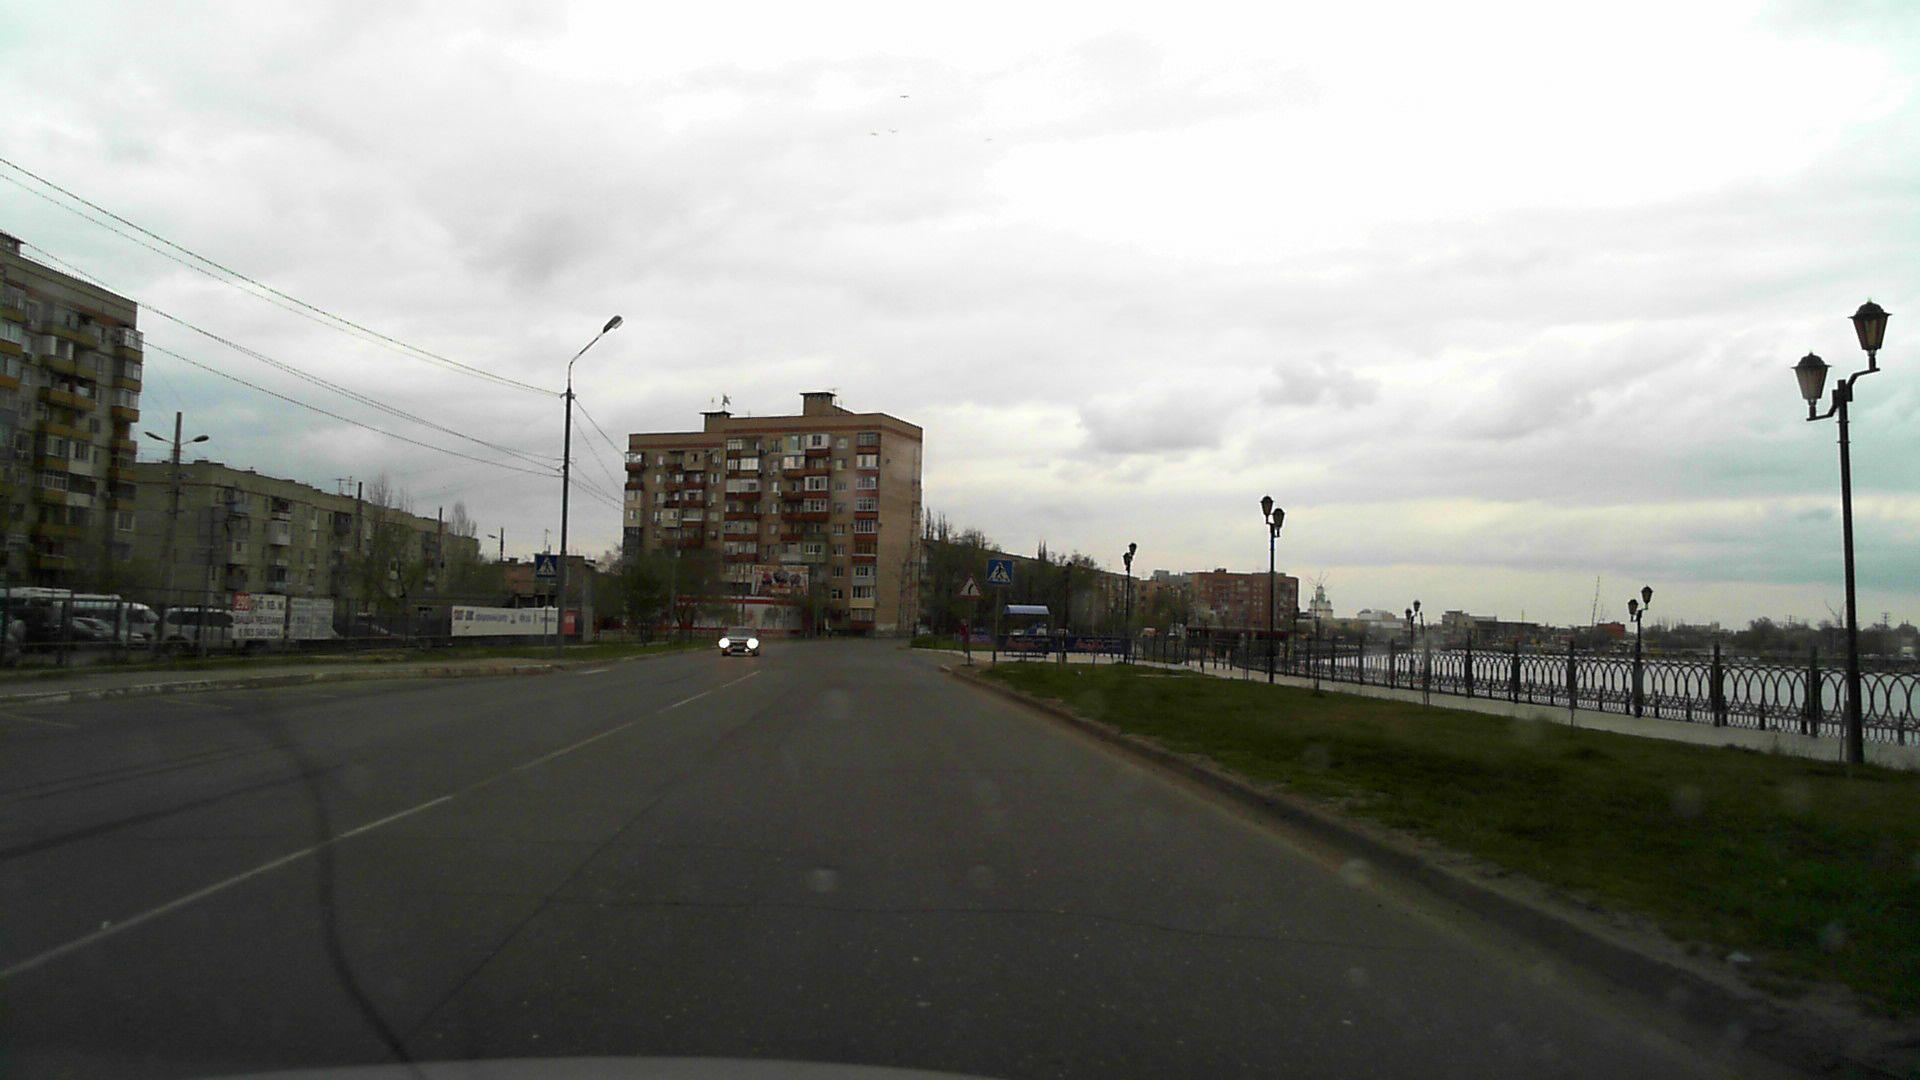1_11_1: (957, 574, 981, 599)
5_19_1: (984, 556, 1014, 584)
5_19_2: (538, 551, 560, 578)
